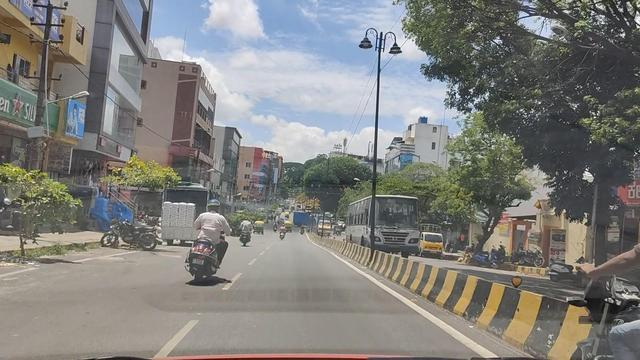LMV: (175, 191, 230, 292)
